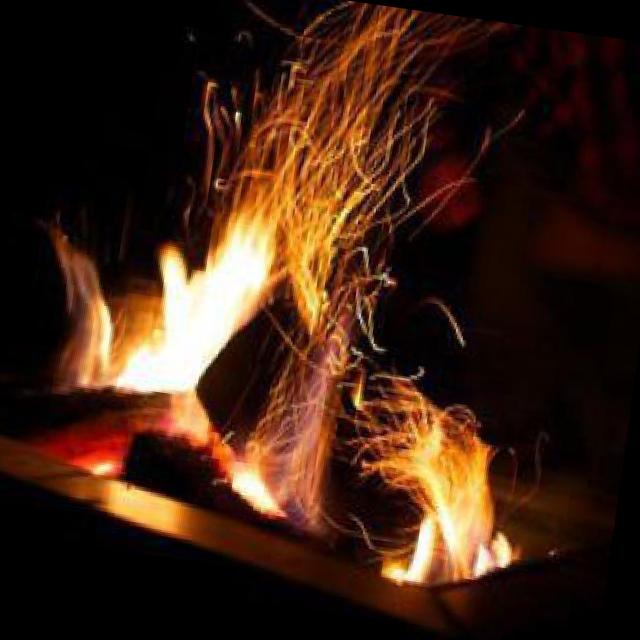Smoke: (38, 128, 346, 442), (334, 372, 564, 610)
